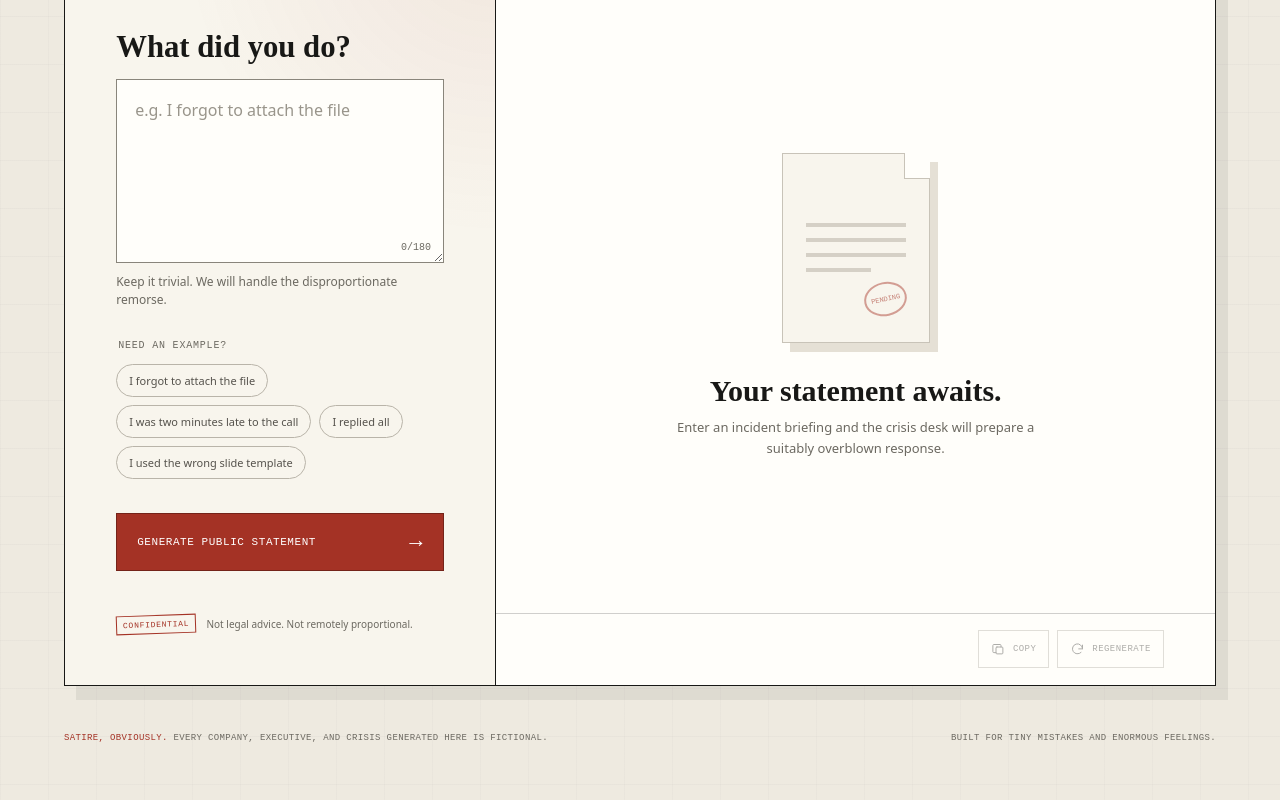
Test case: App › shows a helpful error when the briefing is empty
The image size is (1280, 800).
(page scrolled)
Step 1. Click the button "Generate public statement →" → (280, 542), box [116,512,444,570]
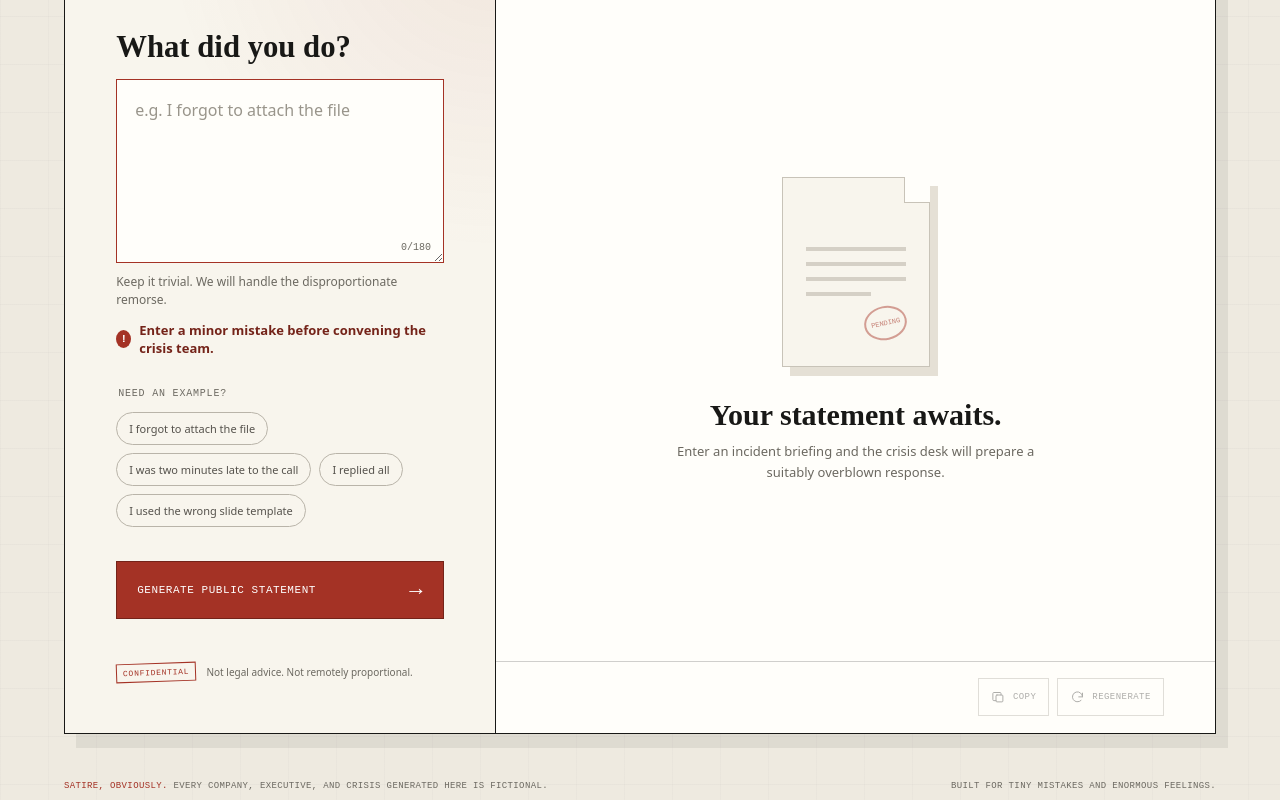
expect the message "! Enter a minor mistake before convening the crisis team." is shown: met, box [116,320,444,356]
